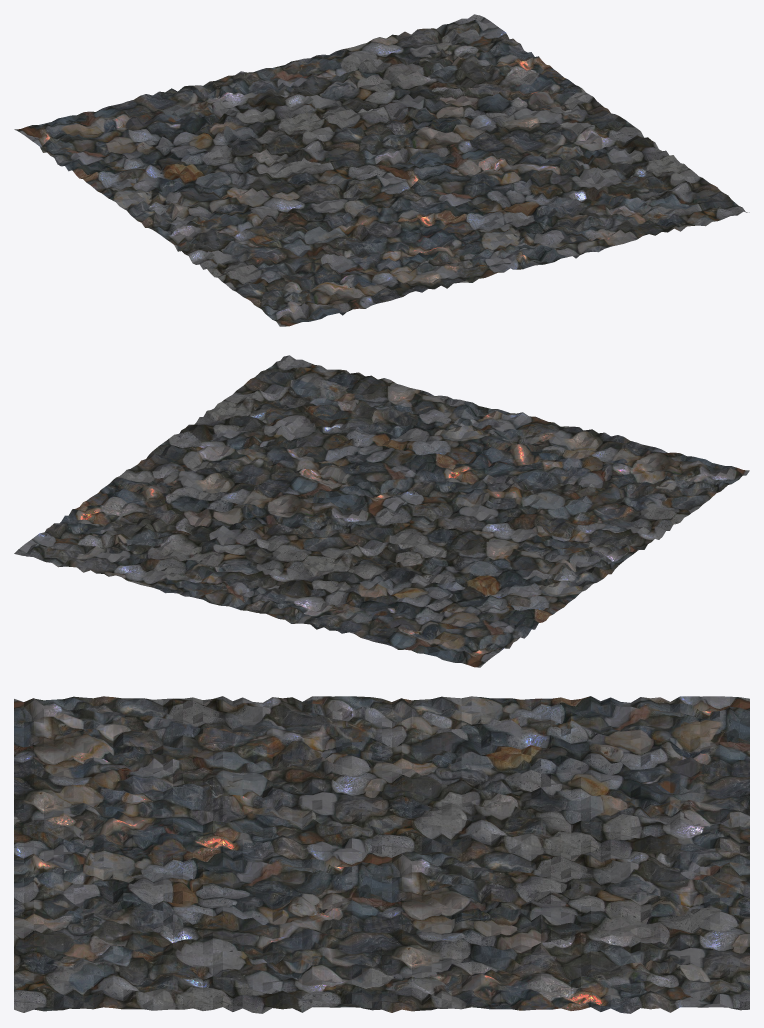
Rendered from tank-1-75.fbx.
3 renders of one model, top to bottom at view 1: azimuth 30°, elevation 25°; view 2: azimuth 150°, elevation 25°; view 3: azimuth 270°, elevation 25°, orthographic. The views are drawn at different scales.
Visible parts, largest first — view 1: Grid; view 2: Grid; view 3: Grid.
Boxes of the visible parts, x1,y1,x2,y2 form: Grid: (14, 14, 749, 326); Grid: (14, 355, 749, 667); Grid: (14, 696, 749, 1013).
Size of the model in its own units: 1600 by 43.02 by 1600.
